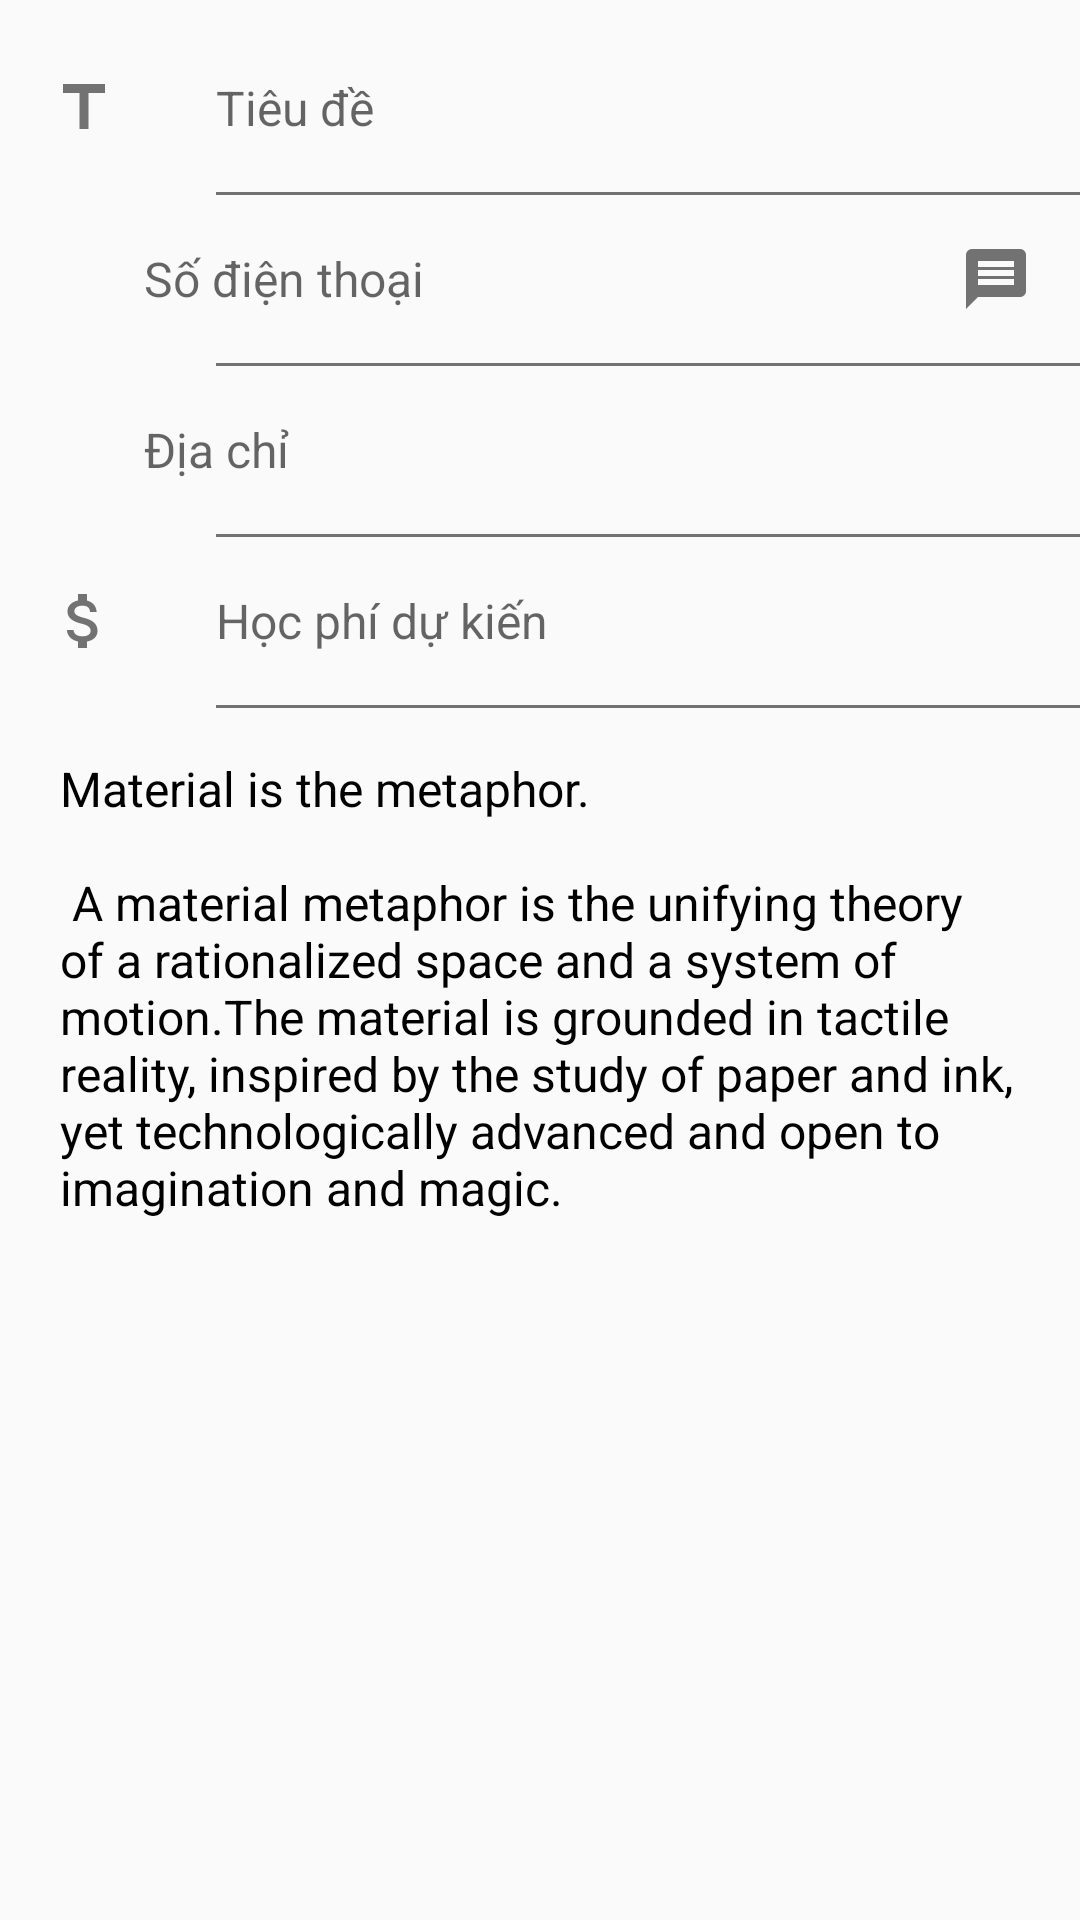

Locate icon controls on the screen. Image size 1080x1920, boxes as Rect(x1, y1, x2, y2).
message: Rect(966, 249, 1026, 309)
money: Rect(67, 594, 98, 648)
title: Rect(63, 84, 105, 129)
